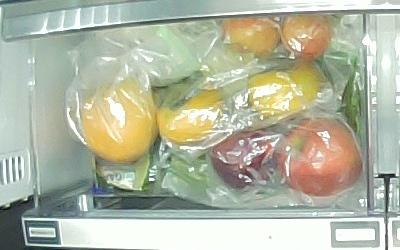apple_vinyl: (278, 118, 362, 198), (212, 130, 278, 189)
grapefruit_vinyl: (80, 79, 161, 164)
persimmon_vinyl: (247, 60, 320, 120), (158, 83, 224, 143)
prune_vinyl: (220, 16, 281, 58), (282, 14, 331, 61)
